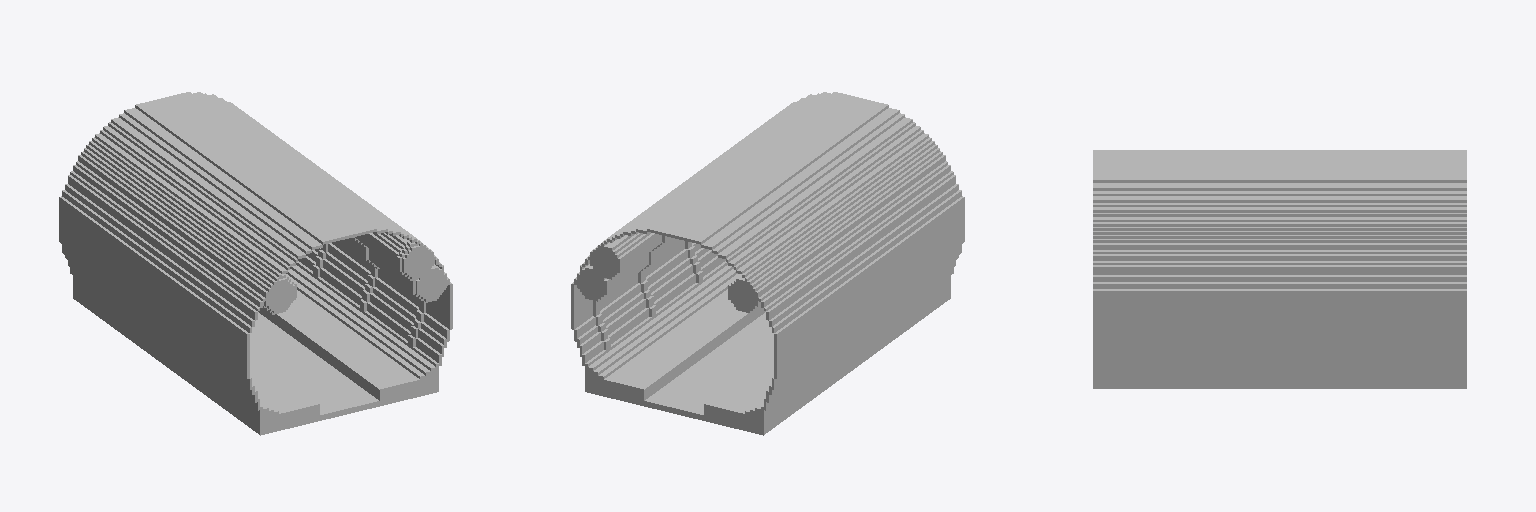
File: Sewer Base main.obj
3 renders of one model, left to right at view 1: azimuth 30°, elevation 25°; view 2: azimuth 150°, elevation 25°; view 3: azimuth 270°, elevation 25°, orthographic.
Size of the model in its own units: 76 by 63 by 120.